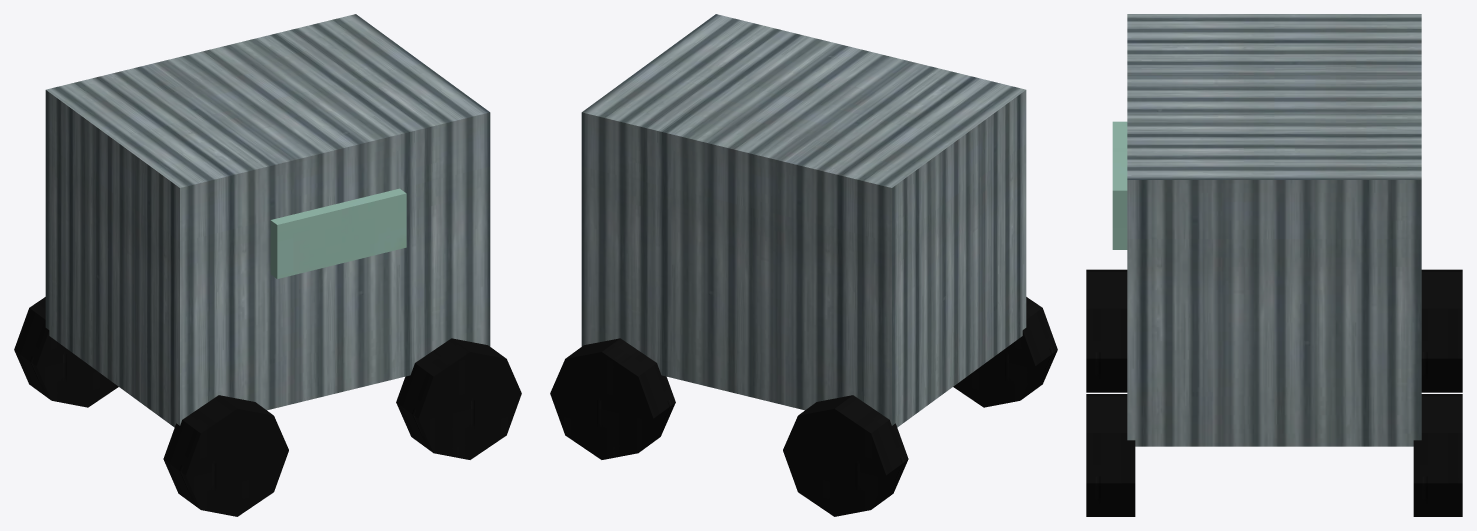
The model's file is courier_bot_01.glb.
3 views of the same model, side by side, from view 1: azimuth 30°, elevation 25°; view 2: azimuth 150°, elevation 25°; view 3: azimuth 270°, elevation 25° (orthographic). The views are drawn at different scales.
Parts seen in each view (by area): view 1: courier_bot_01; view 2: courier_bot_01; view 3: courier_bot_01.
Boxes of the visible parts, x1,y1,x2,y2 form: courier_bot_01: (14, 14, 521, 516); courier_bot_01: (550, 14, 1057, 516); courier_bot_01: (1086, 14, 1462, 516).
Bounding box in the file's own units: 1.3 × 1.2 × 1.15.
Materials: 3 (3 with a texture image).
